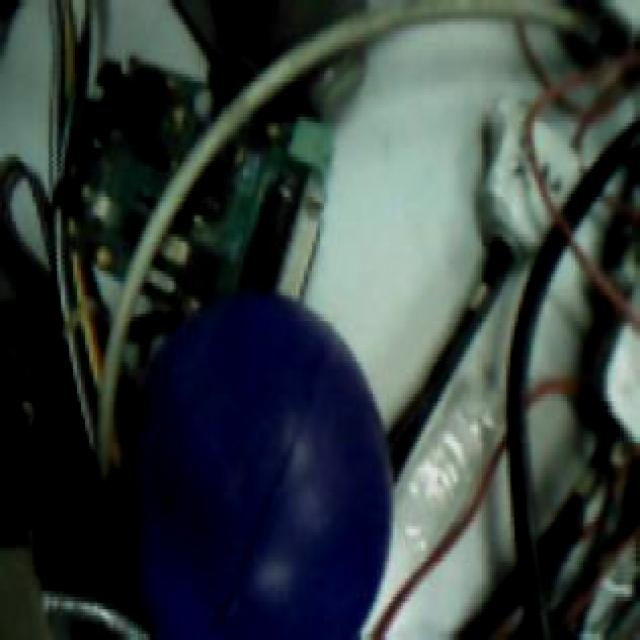BallPurple: (129, 295, 396, 640)
